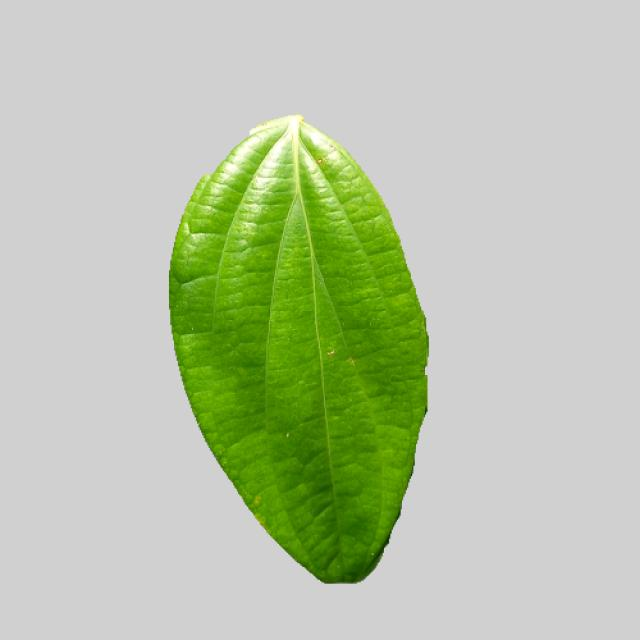healthy: (162, 111, 437, 586)
